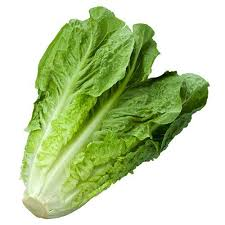Lettuce: (13, 2, 215, 217)
